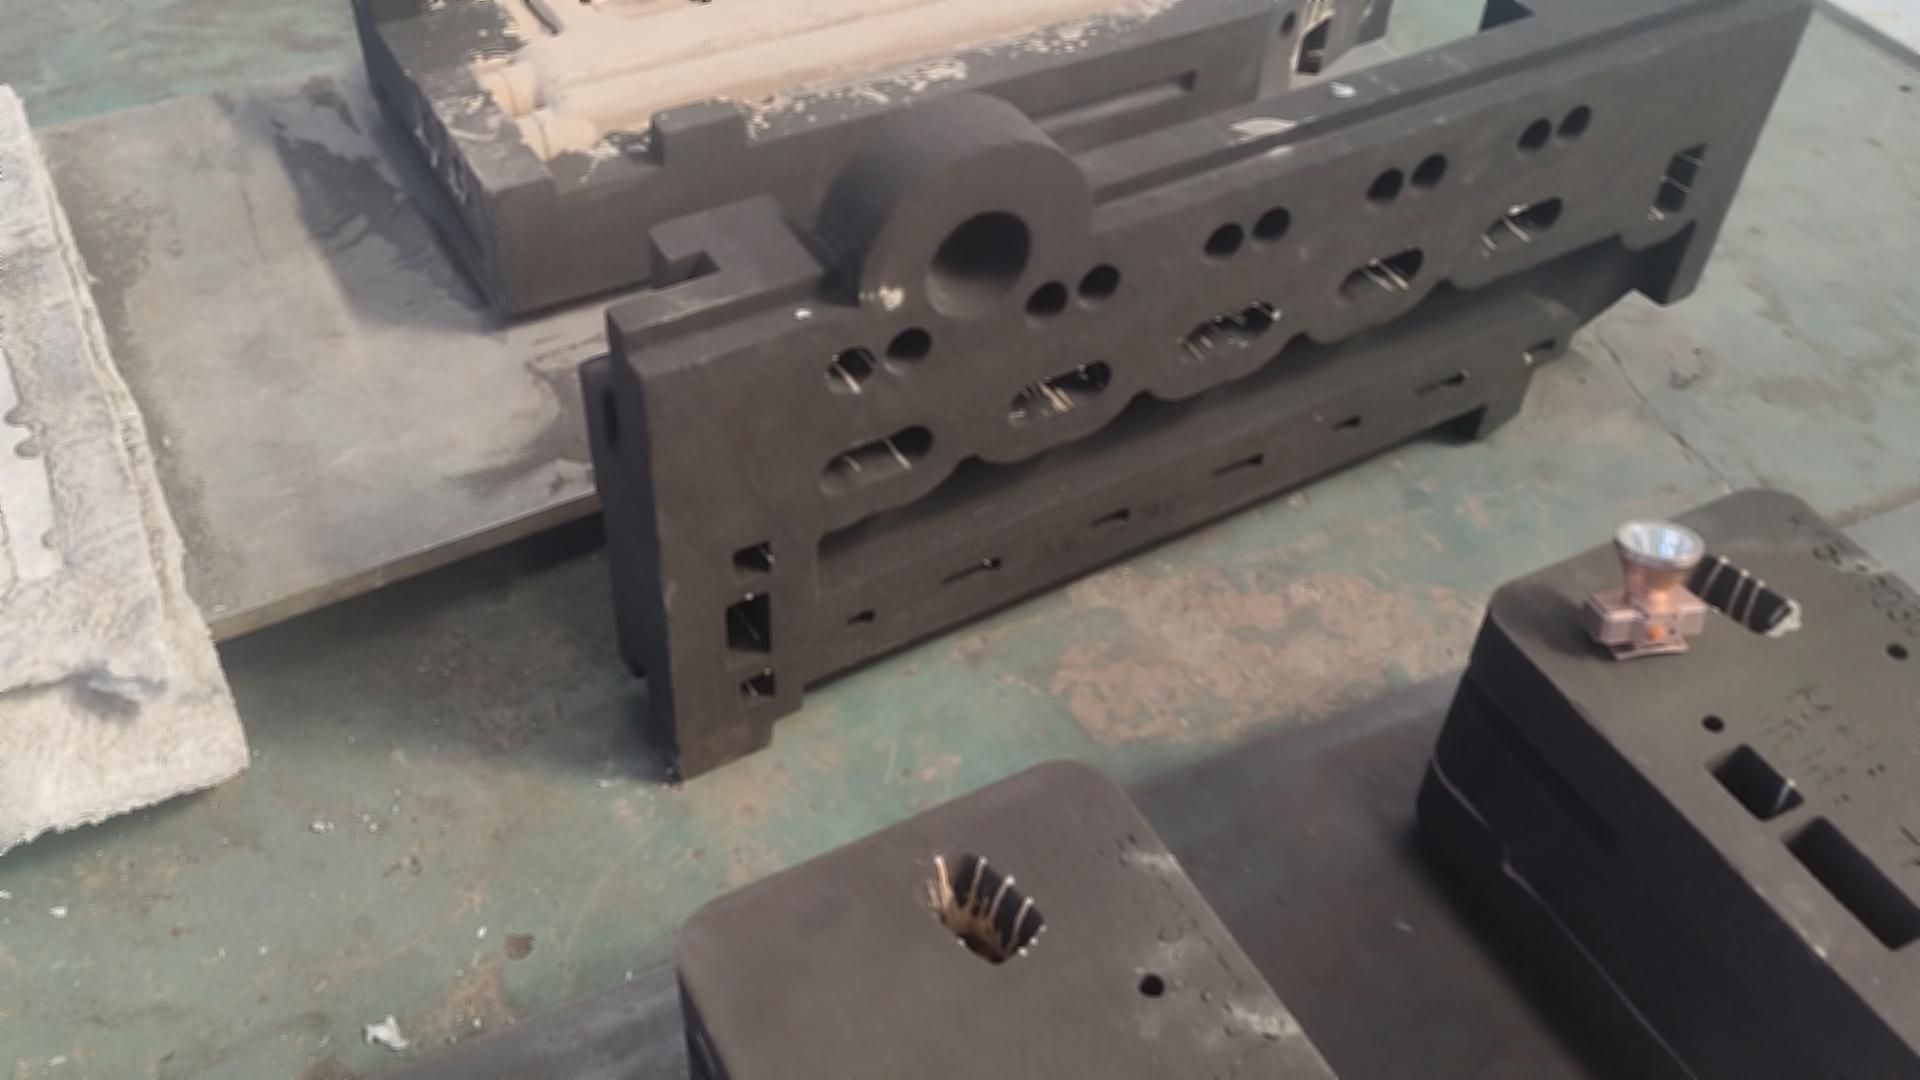pouring hole: (924, 208, 1035, 320)
